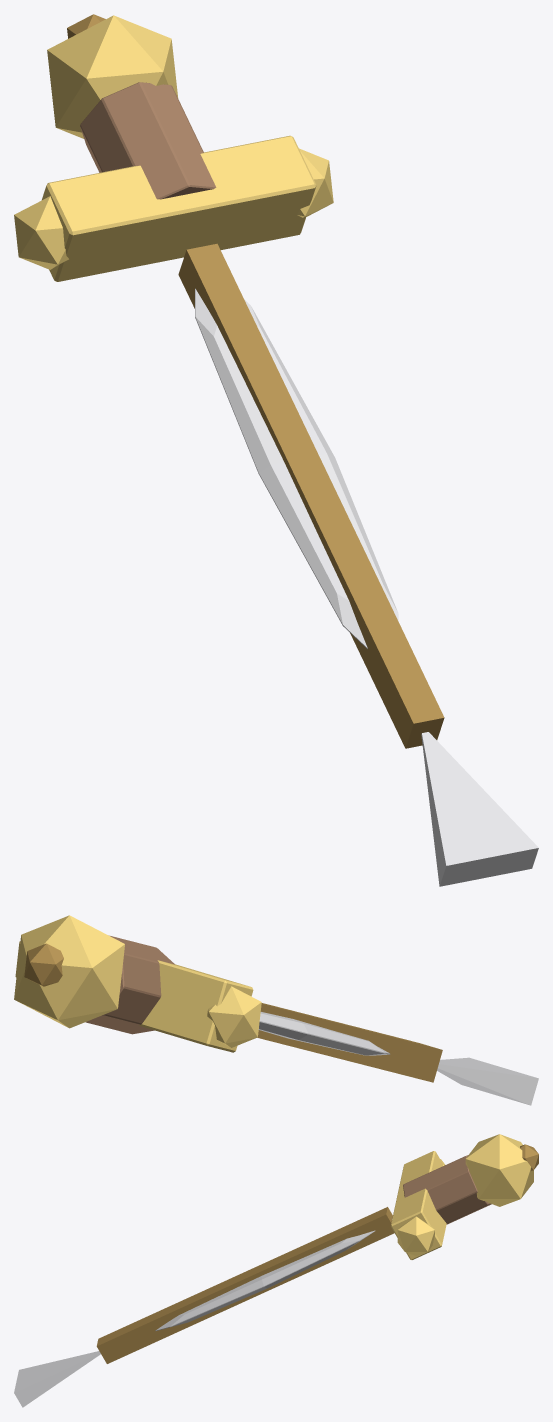
Rendered from sword_short.glb.
3 renders of one model, top to bottom at view 1: azimuth 30°, elevation 25°; view 2: azimuth 150°, elevation 25°; view 3: azimuth 270°, elevation 25°, orthographic. The views are drawn at different scales.
Parts seen in each view (by area): view 1: Sword; view 2: Sword; view 3: Sword.
Part boxes in pixels (box(x1,y1,x2,y2)): Sword: box(14, 14, 538, 886); Sword: box(14, 915, 538, 1105); Sword: box(14, 1134, 538, 1407).
Bounding box in the file's own units: 0.2528 × 0.4233 × 0.7181.
